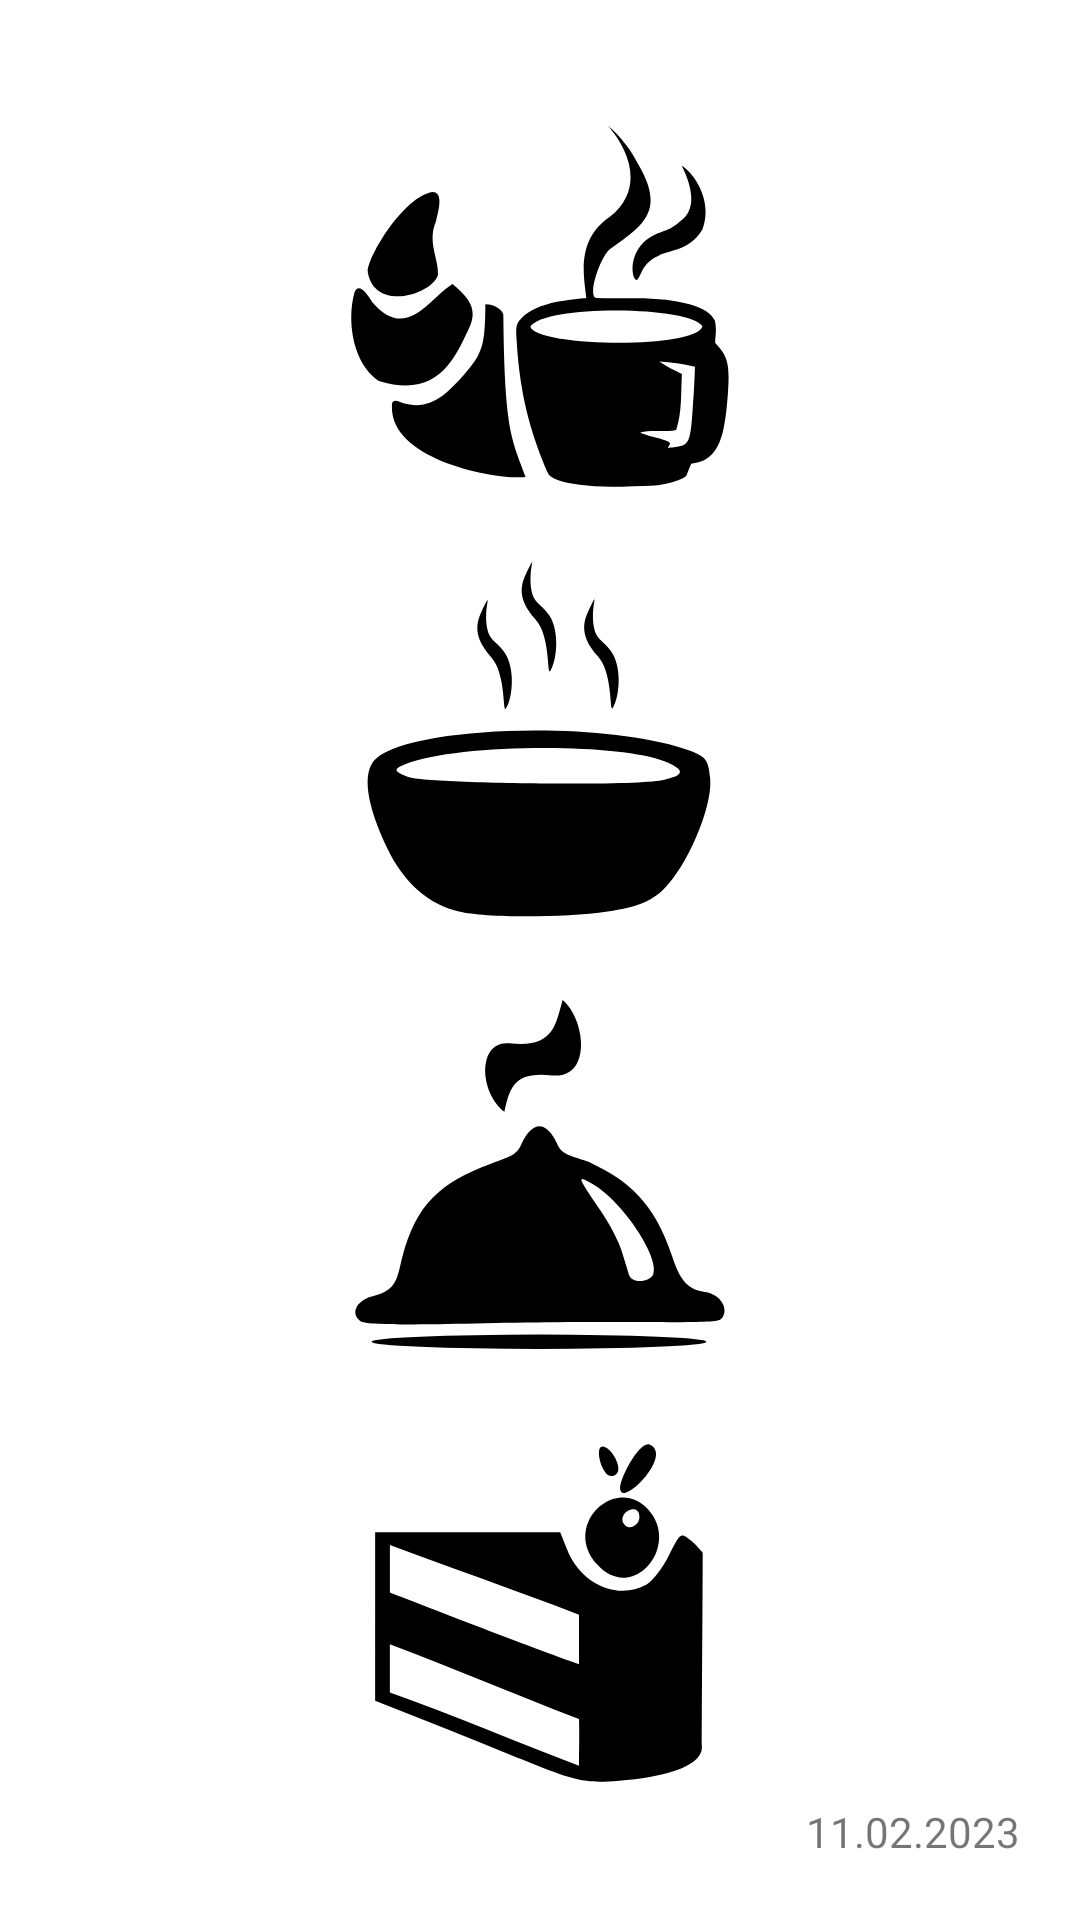

Where to tap for icons on this 1080*1920 app screen, as (x=x, y=y):
Dessert: (x=539, y=1613)
Soup: (x=539, y=739)
